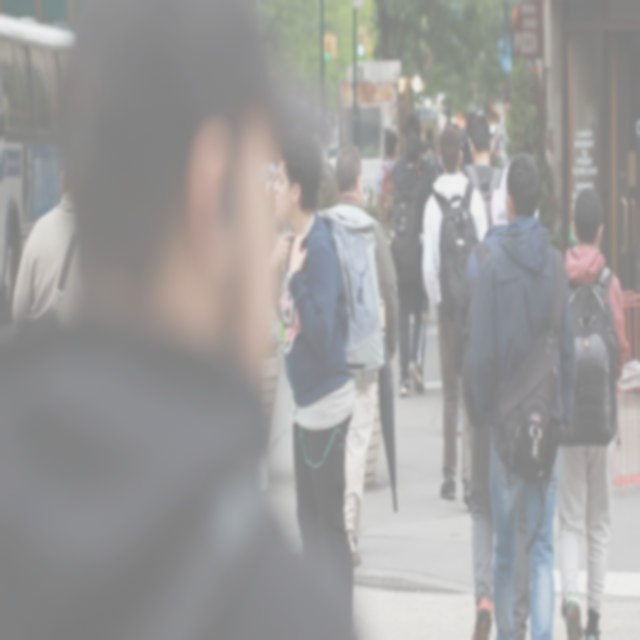pessoa: (0, 0, 361, 639), (457, 144, 580, 639), (262, 126, 364, 638), (455, 160, 540, 639), (555, 186, 630, 638), (327, 142, 400, 570), (420, 118, 494, 510), (10, 148, 84, 327), (388, 130, 432, 402), (0, 192, 24, 326), (391, 110, 432, 186), (372, 130, 399, 226), (460, 108, 496, 164), (420, 120, 442, 180)
